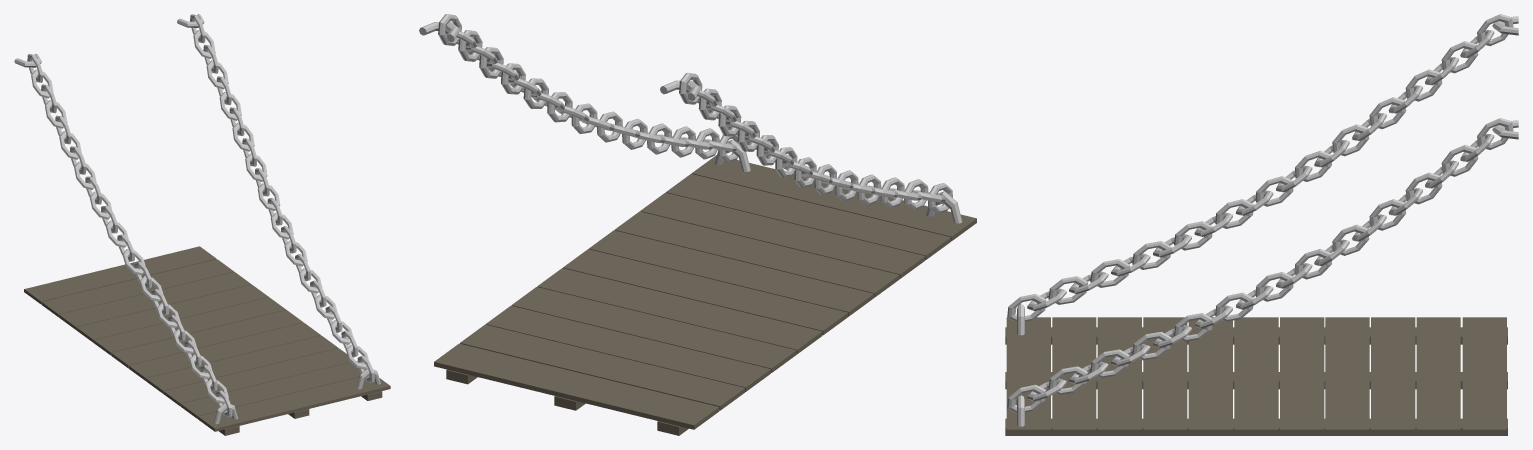
File: Bridge_Final.fbx
3 renders of one model, left to right at view 1: azimuth 30°, elevation 25°; view 2: azimuth 150°, elevation 25°; view 3: azimuth 270°, elevation 25°, orthographic. The views are drawn at different scales.
Visible parts, largest first — view 1: Bridge_low; view 2: Bridge_low; view 3: Bridge_low.
Boxes of the visible parts, x1=… form: Bridge_low: x1=14, y1=14, x2=390, y2=435; Bridge_low: x1=419, y1=14, x2=976, y2=435; Bridge_low: x1=1005, y1=14, x2=1518, y2=435.
Bounding box in the file's own units: 12.74 × 15.92 × 23.18.
